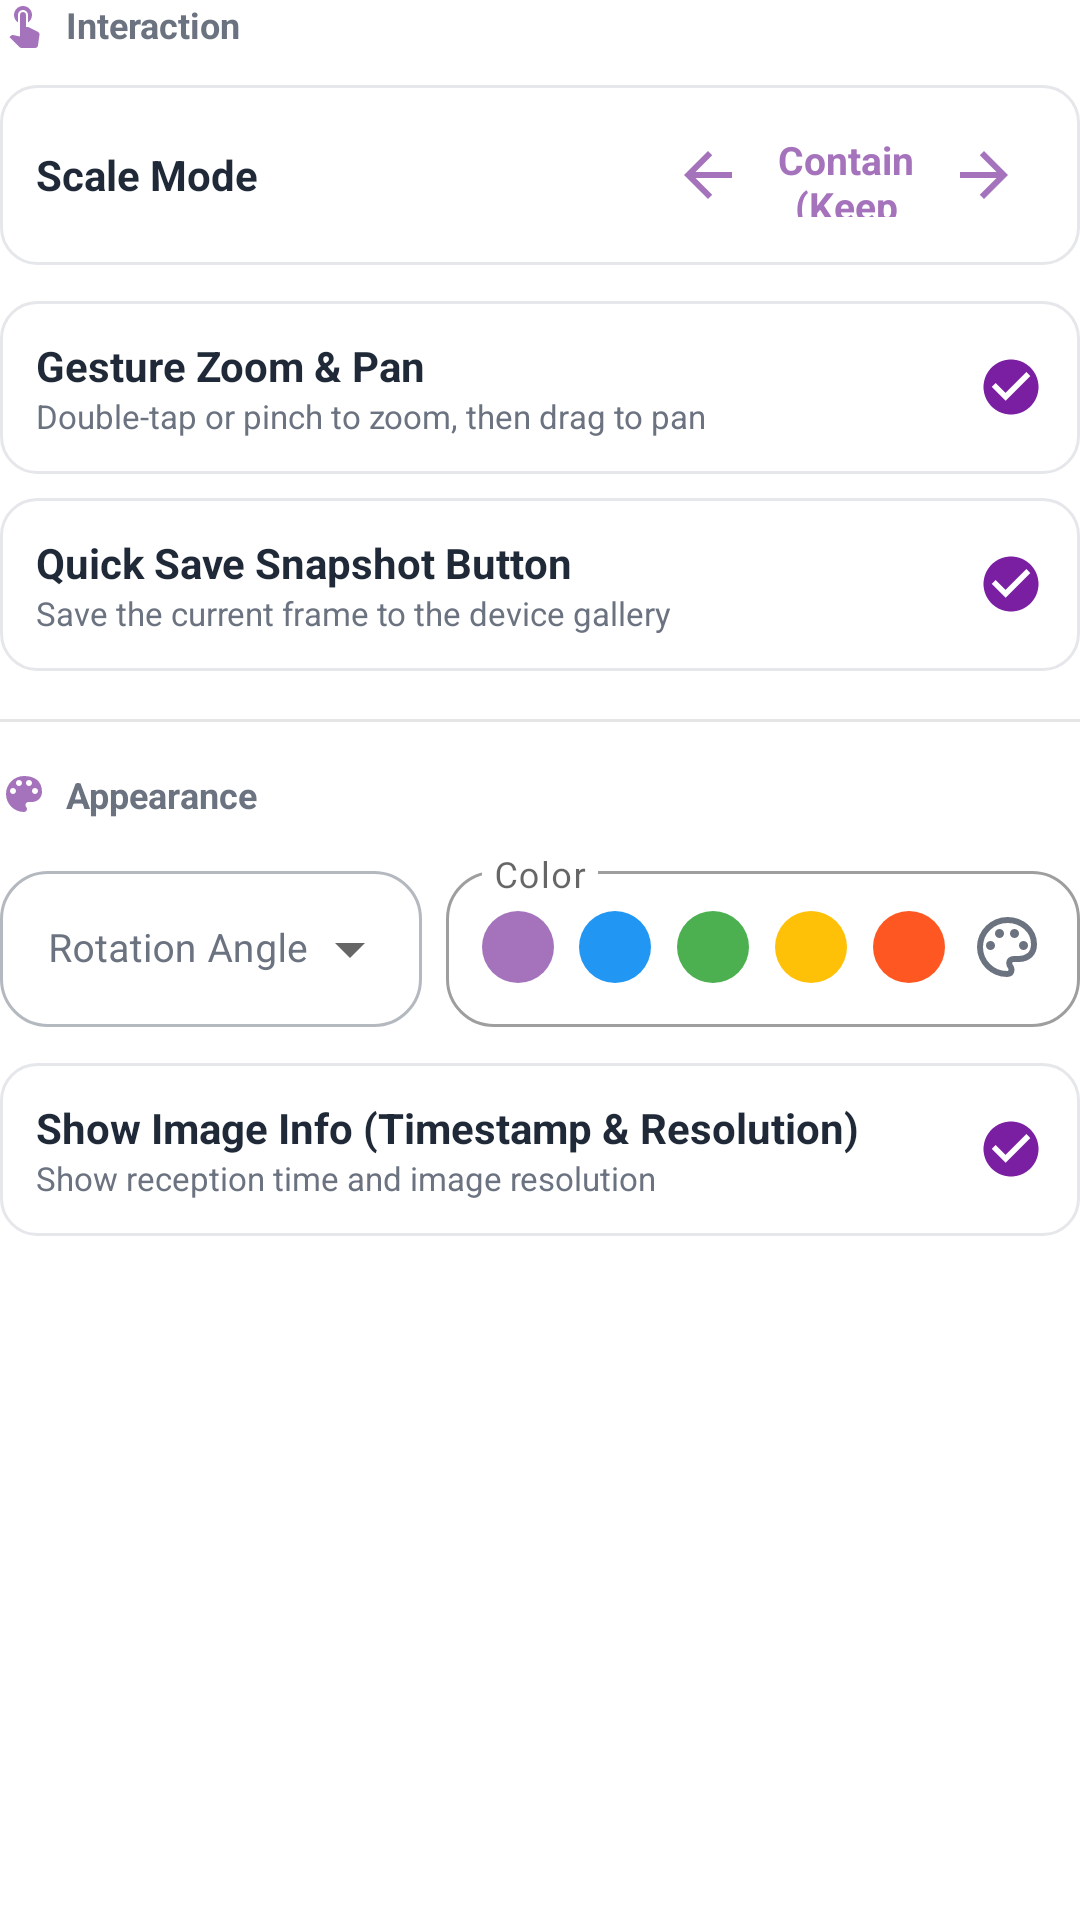

Screen size 1080 x 1920. Icon name, then its center in pixels as point (x, y):
check circle premium: point (1011, 387), point (1011, 584), point (1011, 1149)
palette: point (24, 794)
palette open: point (1007, 947)
touch app: point (24, 27)
